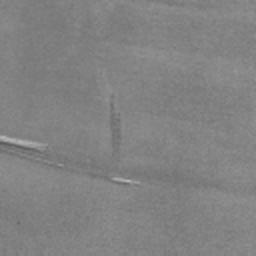Finishing roll printing: (0, 135, 139, 185), (109, 94, 121, 158)
